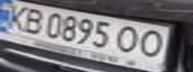0: (39, 10, 66, 39)
5: (90, 19, 118, 51)
8: (57, 14, 78, 43)
9: (75, 16, 96, 47)
B: (15, 6, 48, 35)
K: (0, 2, 33, 30)
O: (133, 27, 172, 58), (112, 24, 148, 55)
